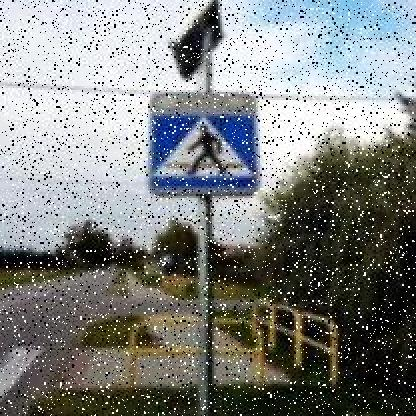Pedestrian Crossing: (148, 111, 260, 195)
